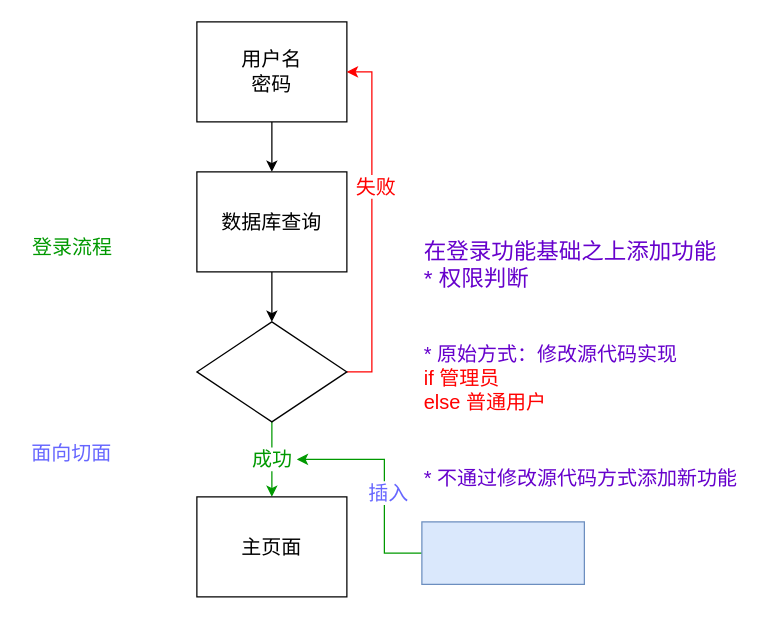
The diagram is 780 pixels wide and 619 high, and some of its shapes have lost their labels. Each missing label, with the centre of its shape:
"判断" belongs at pixel 271 371.
"权限判断模块" belongs at pixel 502 552.
